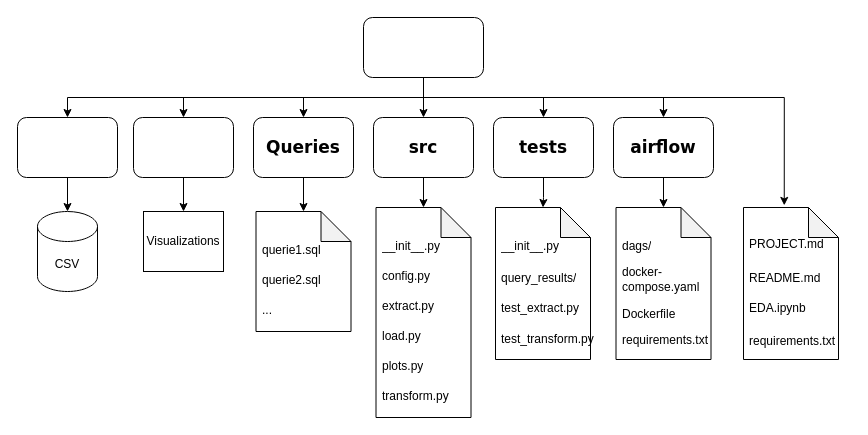
The diagram is 868 pixels wide and 435 high, and some of its shapes have lost their labels. Each missing label, with the centre of its shape:
"Dataset" belongs at pixel 67 147.
"Images" belongs at pixel 183 147.
"Project folder" belongs at pixel 423 47.
